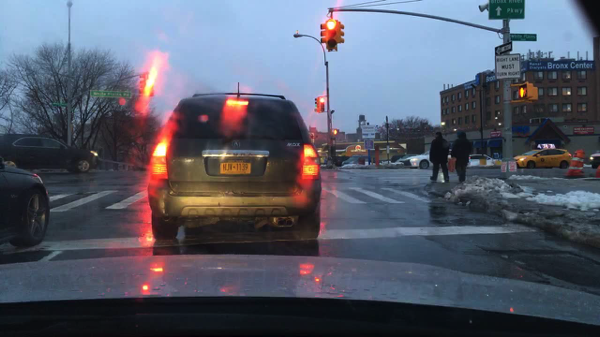car: (148, 82, 320, 240), (0, 159, 54, 250), (0, 133, 97, 174), (512, 142, 572, 169), (403, 152, 452, 168), (465, 154, 498, 167), (341, 154, 372, 165), (399, 152, 418, 162), (588, 151, 599, 168), (333, 156, 347, 167)
person: (447, 132, 470, 181), (429, 131, 449, 182)
traffic light: (326, 17, 336, 48), (518, 82, 533, 99), (147, 74, 155, 97), (138, 73, 145, 99), (337, 23, 345, 43), (319, 24, 327, 42), (319, 97, 325, 112), (314, 98, 319, 112), (331, 129, 339, 135)
traffic sign: (489, 0, 525, 21), (494, 53, 520, 78), (90, 90, 131, 98), (494, 41, 512, 56), (509, 32, 537, 41), (364, 140, 374, 149), (52, 102, 66, 107)
